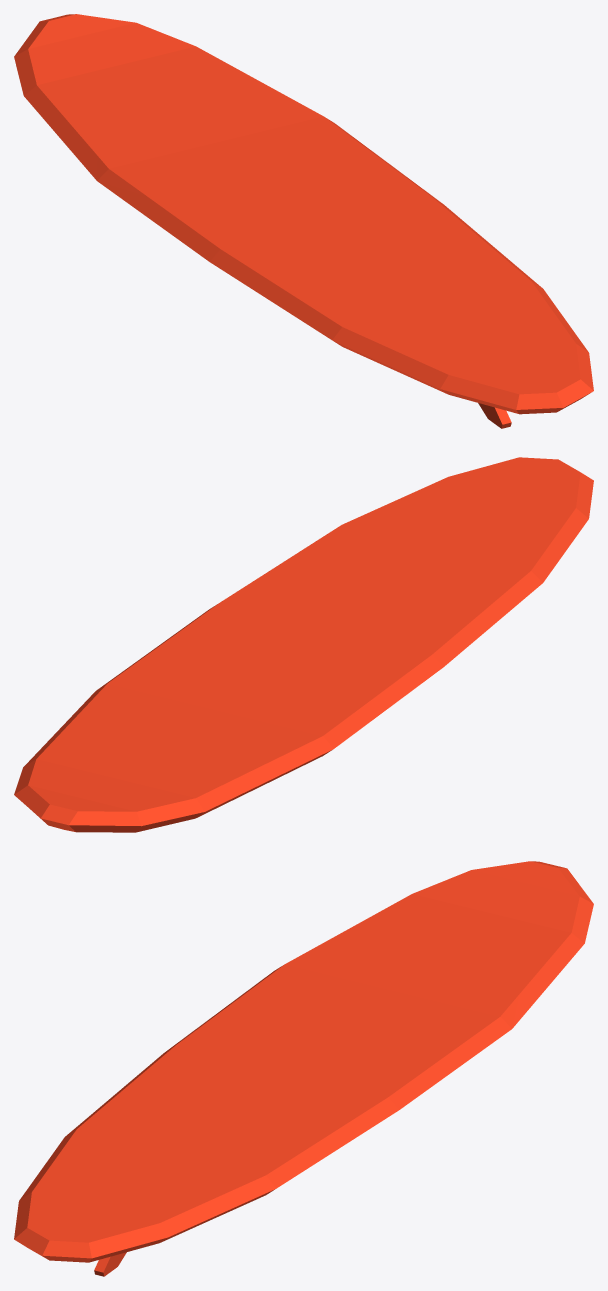
Rendered from SM_Surf_E_City.fbx.
3 views of the same model, one above another, from view 1: azimuth 30°, elevation 25°; view 2: azimuth 150°, elevation 25°; view 3: azimuth 330°, elevation 25° (orthographic).
Parts seen in each view (by area): view 1: SM_Surf_E_City; view 2: SM_Surf_E_City; view 3: SM_Surf_E_City.
Part boxes in pixels (<box>): SM_Surf_E_City: <box>14,14,593,428</box>; SM_Surf_E_City: <box>14,457,593,832</box>; SM_Surf_E_City: <box>14,861,593,1276</box>.
Bounding box in the file's own units: 0.7493 × 0.2581 × 2.79.
